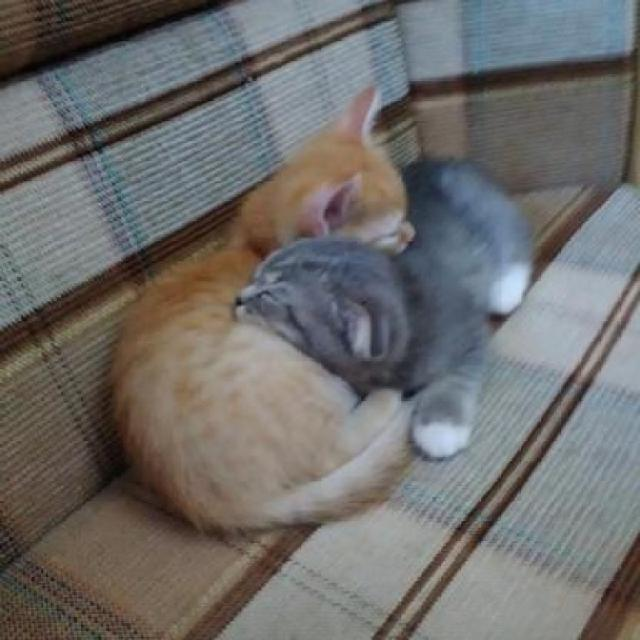cat: (108, 88, 414, 528), (236, 160, 530, 458)
